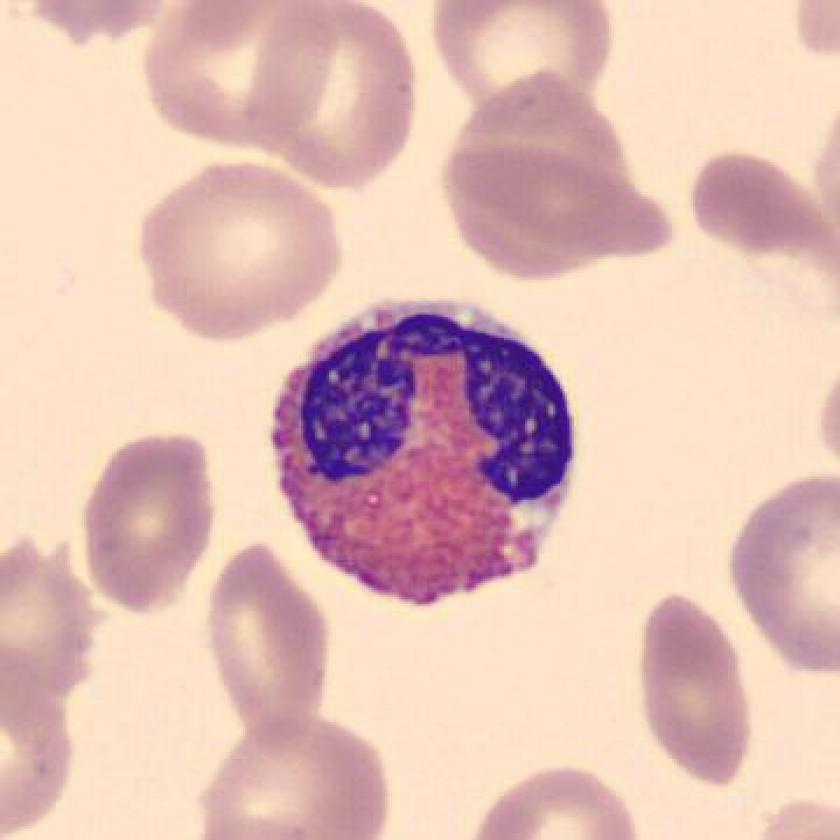eosinophil: (251, 290, 591, 626)
